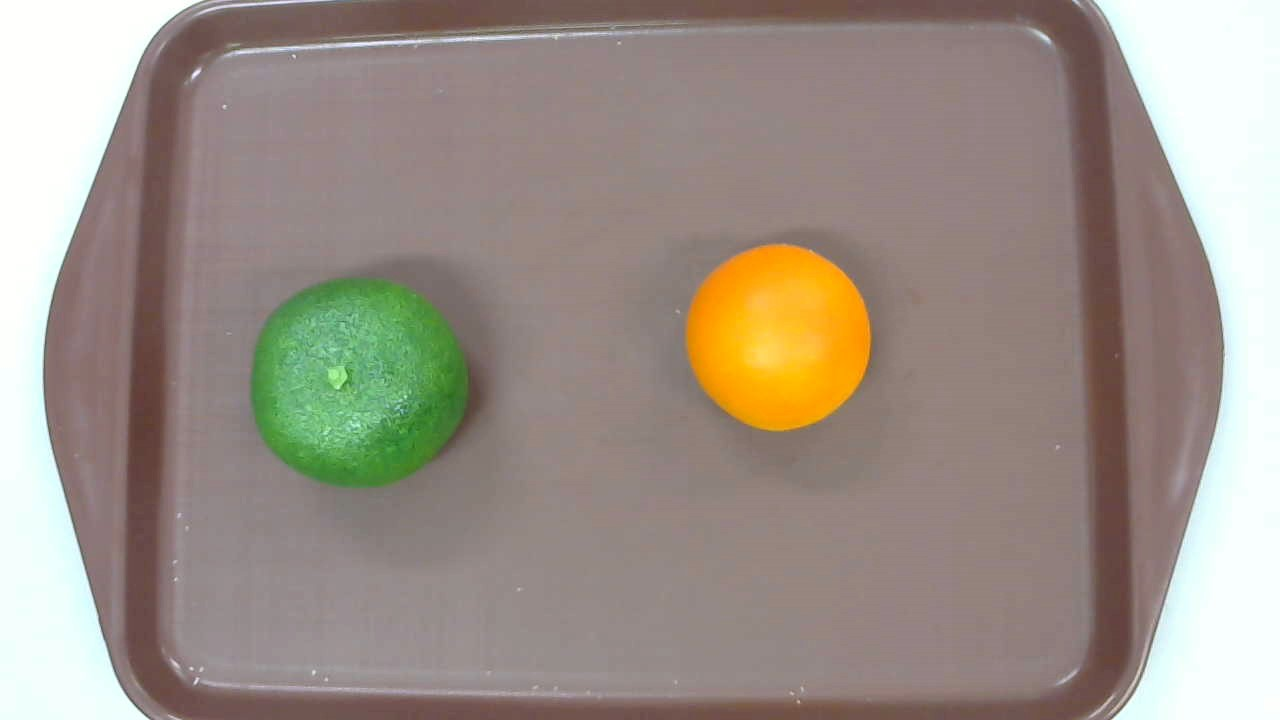bun: (685, 241, 872, 434)
green orange: (252, 275, 470, 485)
